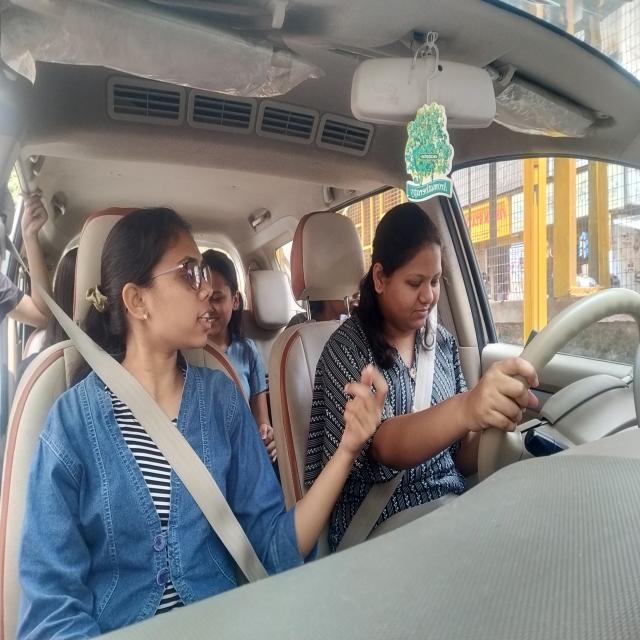drowsy: (372, 201, 449, 340)
person: (105, 206, 214, 364), (205, 245, 248, 343)
